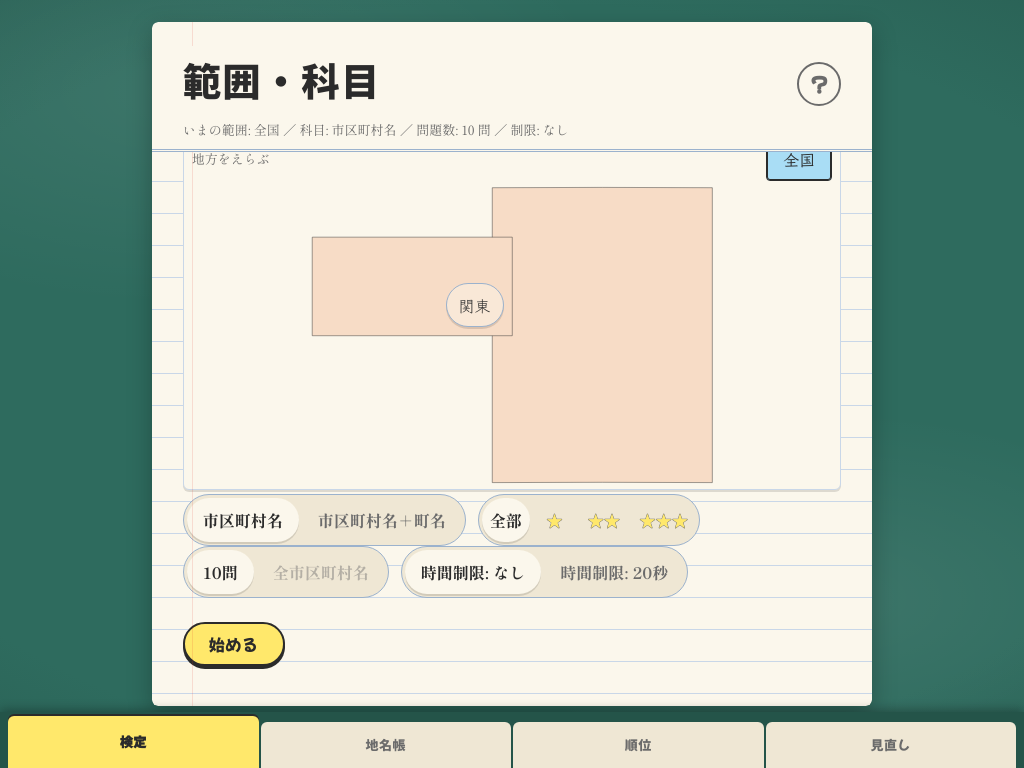
Test: 範囲・科目 への組み込み › 「地方を選び直す」で段階 1 に戻る
Expected: the icon with class "jp-map__svg" is shown, [192,185,832,485]
Step 1. Click the button with aria-label "関東地方" → (475, 305), box [446,283,504,327]
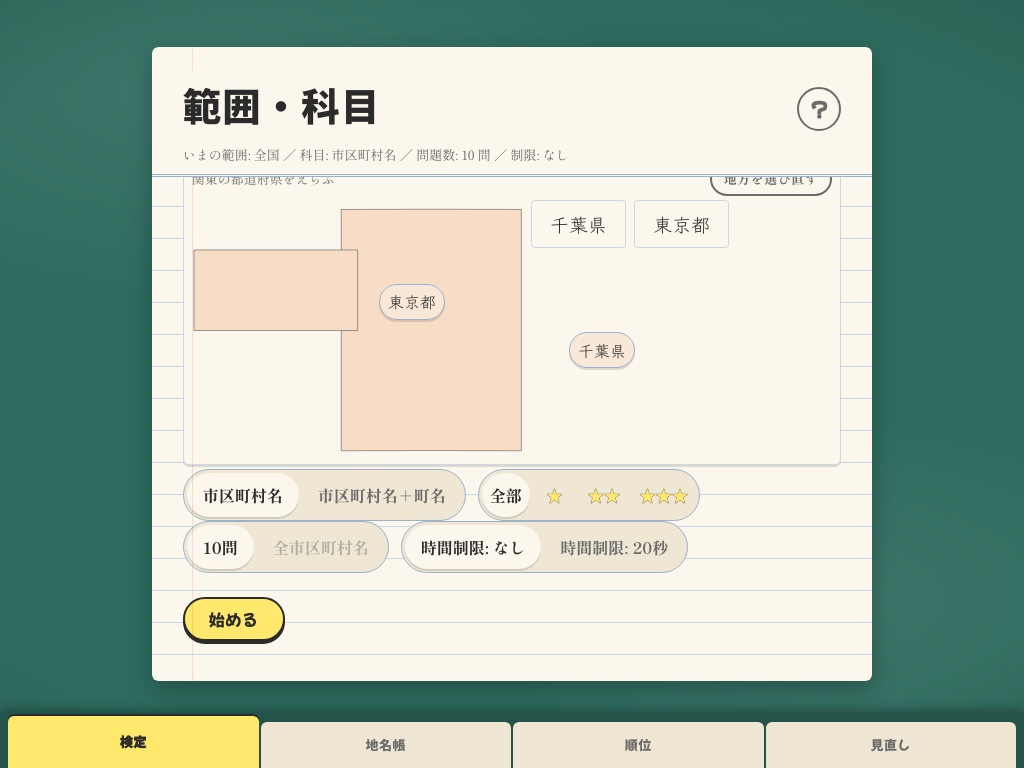
Step 2. Click the button "地方を選び直す" → (771, 179), box [710,162,832,196]
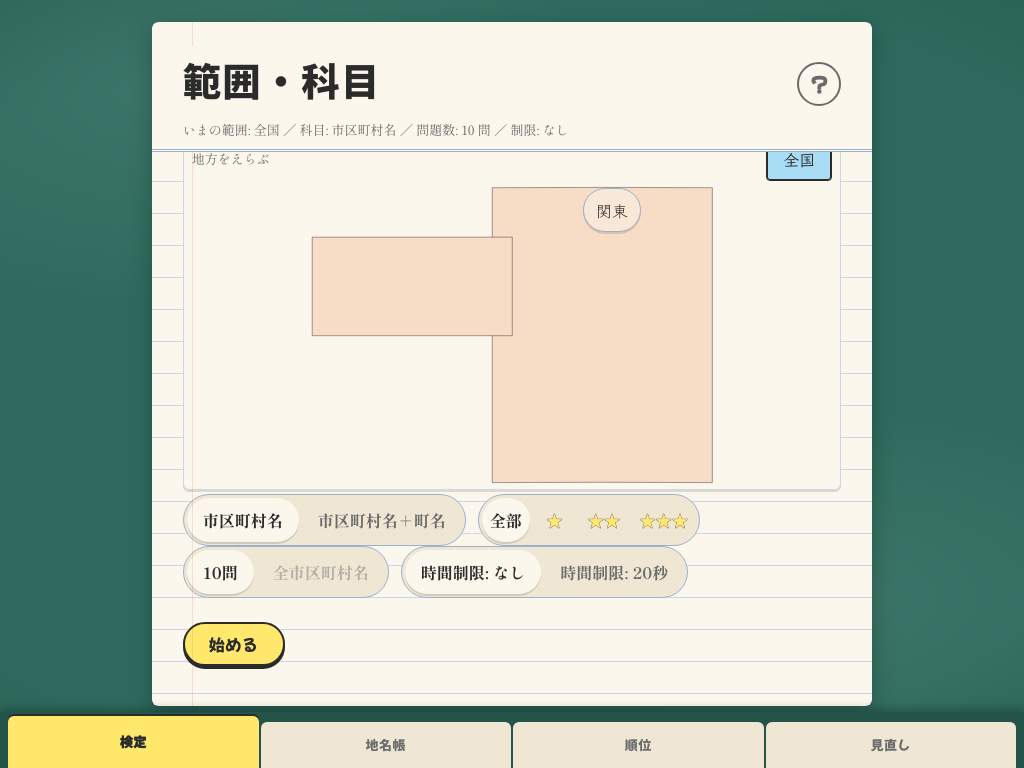
Expected: the text "地方をえらぶ" is shown, [192,147,270,171]
Expected: the element with class "jp-map__grid" is gone
